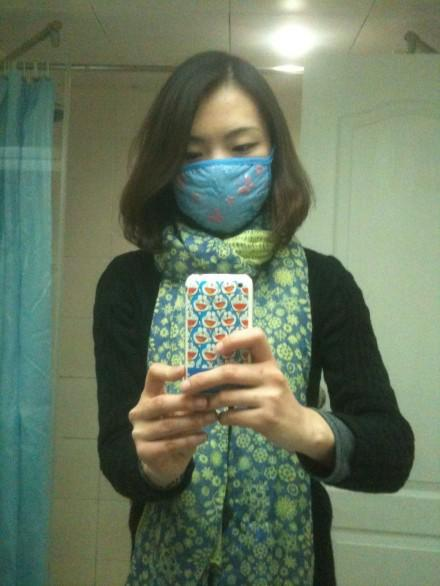OK: (169, 119, 276, 235)
